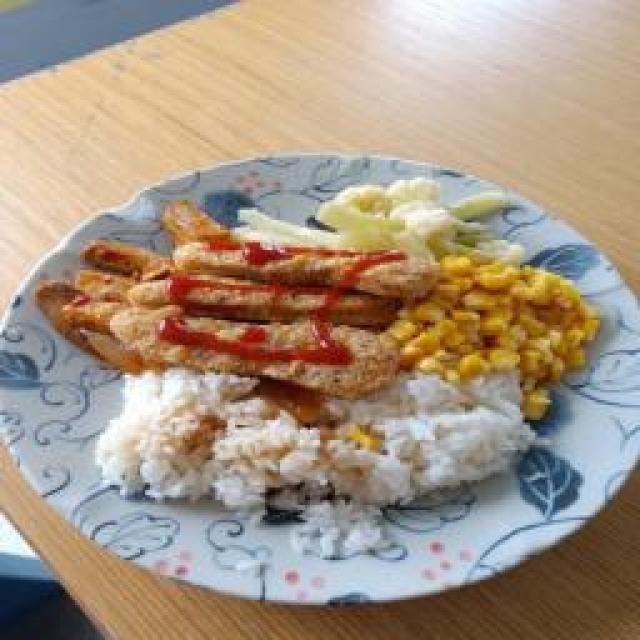Wet Waste: (95, 368, 540, 550)
